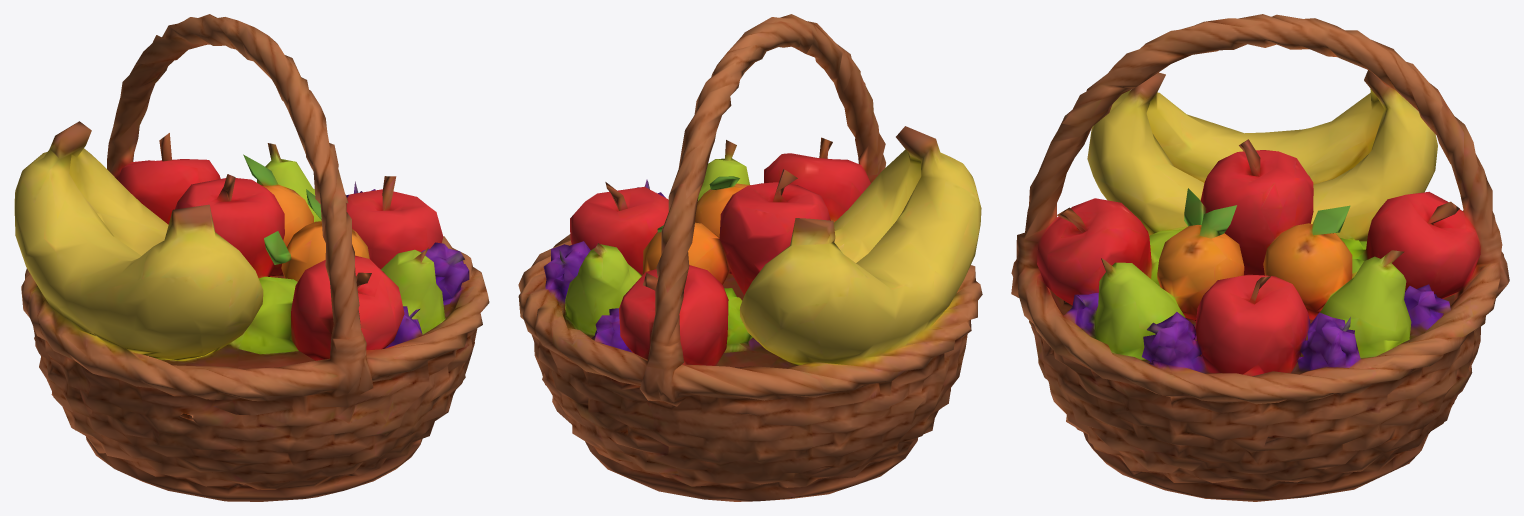
File: fruit_basket.glb
3 renders of one model, left to right at view 1: azimuth 30°, elevation 25°; view 2: azimuth 150°, elevation 25°; view 3: azimuth 270°, elevation 25°, orthographic. The views are drawn at different scales.
Visible parts, largest first — view 1: tripo_node_a1f9d7d3-ccf4-4f91-ac9d-41a9e0e51b8f; view 2: tripo_node_a1f9d7d3-ccf4-4f91-ac9d-41a9e0e51b8f; view 3: tripo_node_a1f9d7d3-ccf4-4f91-ac9d-41a9e0e51b8f.
Part boxes in pixels (x1,y1,x2,y2): tripo_node_a1f9d7d3-ccf4-4f91-ac9d-41a9e0e51b8f: [14, 14, 489, 501]; tripo_node_a1f9d7d3-ccf4-4f91-ac9d-41a9e0e51b8f: [518, 14, 982, 501]; tripo_node_a1f9d7d3-ccf4-4f91-ac9d-41a9e0e51b8f: [1011, 14, 1509, 501].
Size of the model in its own units: 0.3684 by 0.35 by 0.3819.
Materials: 1 (1 with a texture image).
